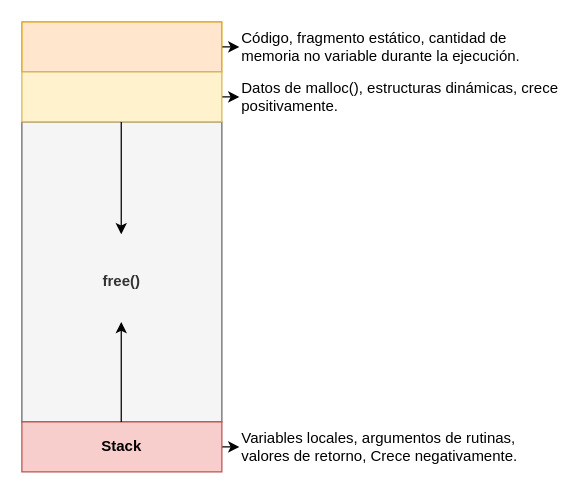
Image size: 581x494. Some labels were removed from this diagram. The shapes that lost their labels are listed below. From the top down, each one's centre as x and y in pixels, then its label:
the point at 121,46: Código del Programa
the point at 121,96: Heap
